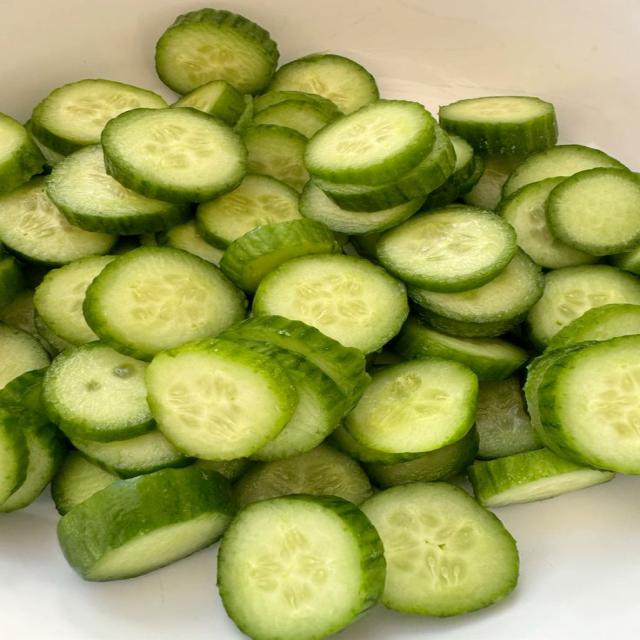cucumber sliced: (218, 495, 385, 639), (361, 483, 519, 616), (58, 466, 233, 581), (84, 247, 246, 360), (147, 339, 297, 459), (254, 254, 408, 352), (220, 316, 370, 411), (537, 335, 639, 474), (345, 357, 478, 461), (101, 108, 246, 203), (239, 339, 345, 461), (47, 145, 190, 234), (314, 122, 455, 211), (376, 205, 516, 292), (409, 250, 543, 335), (43, 342, 153, 442), (305, 100, 433, 185), (155, 8, 279, 93), (30, 79, 166, 155), (0, 177, 116, 266), (527, 265, 639, 350), (497, 177, 598, 268), (234, 444, 372, 508), (393, 315, 528, 380), (220, 220, 341, 292), (468, 449, 614, 507), (546, 168, 639, 255), (196, 173, 300, 248), (34, 256, 116, 345), (439, 96, 557, 156), (0, 408, 66, 513), (364, 428, 478, 488), (269, 53, 379, 113), (299, 181, 423, 234), (502, 145, 625, 197), (73, 429, 193, 478), (475, 378, 542, 459), (423, 135, 485, 210), (242, 124, 309, 191), (52, 451, 119, 515), (547, 304, 639, 350), (0, 113, 44, 193), (171, 80, 246, 125), (0, 324, 50, 389), (463, 156, 523, 210), (254, 100, 339, 138), (157, 220, 223, 266), (0, 406, 28, 504), (254, 91, 341, 116), (0, 254, 26, 313)
